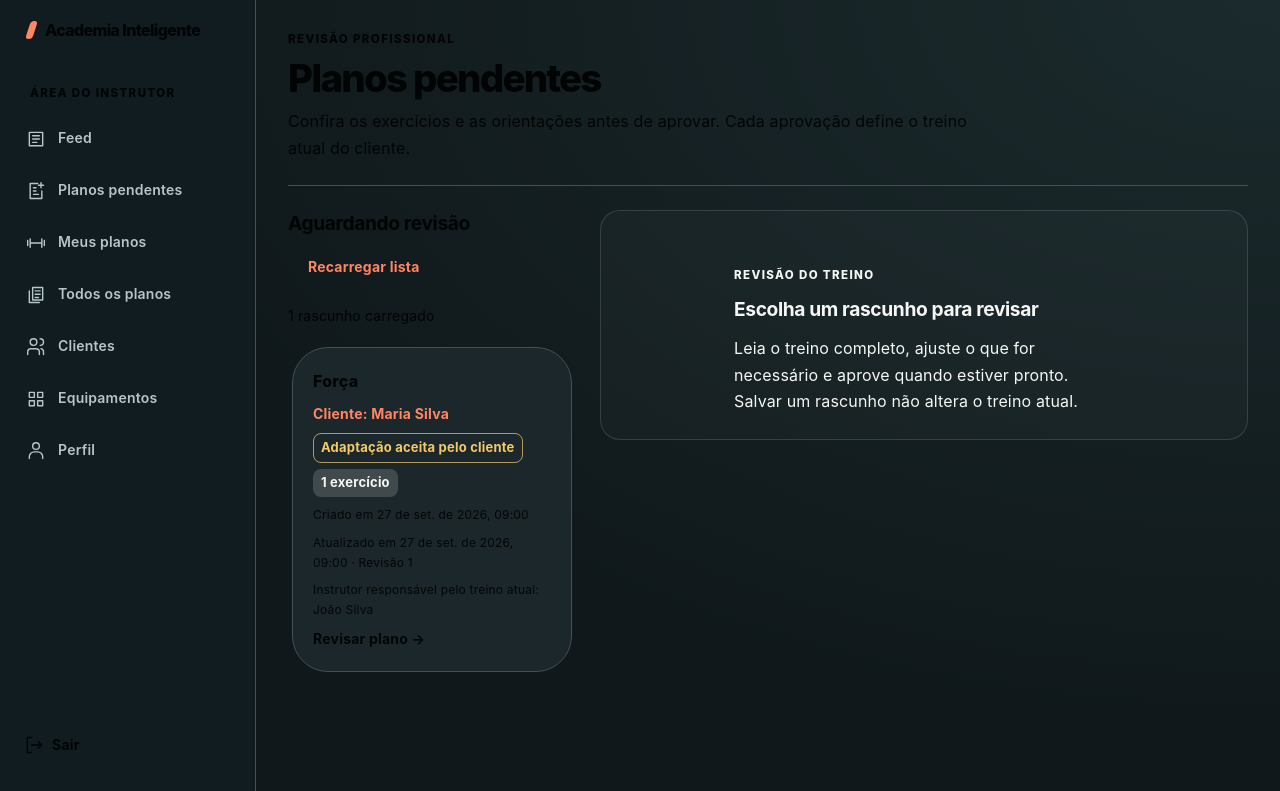
it: stale save blocks approval until the draft has been reloaded
Click the button with aria-label "Revisar plano de Maria Silva".
click(432, 510)  # box [292,348,572,672]
(page scrolled)
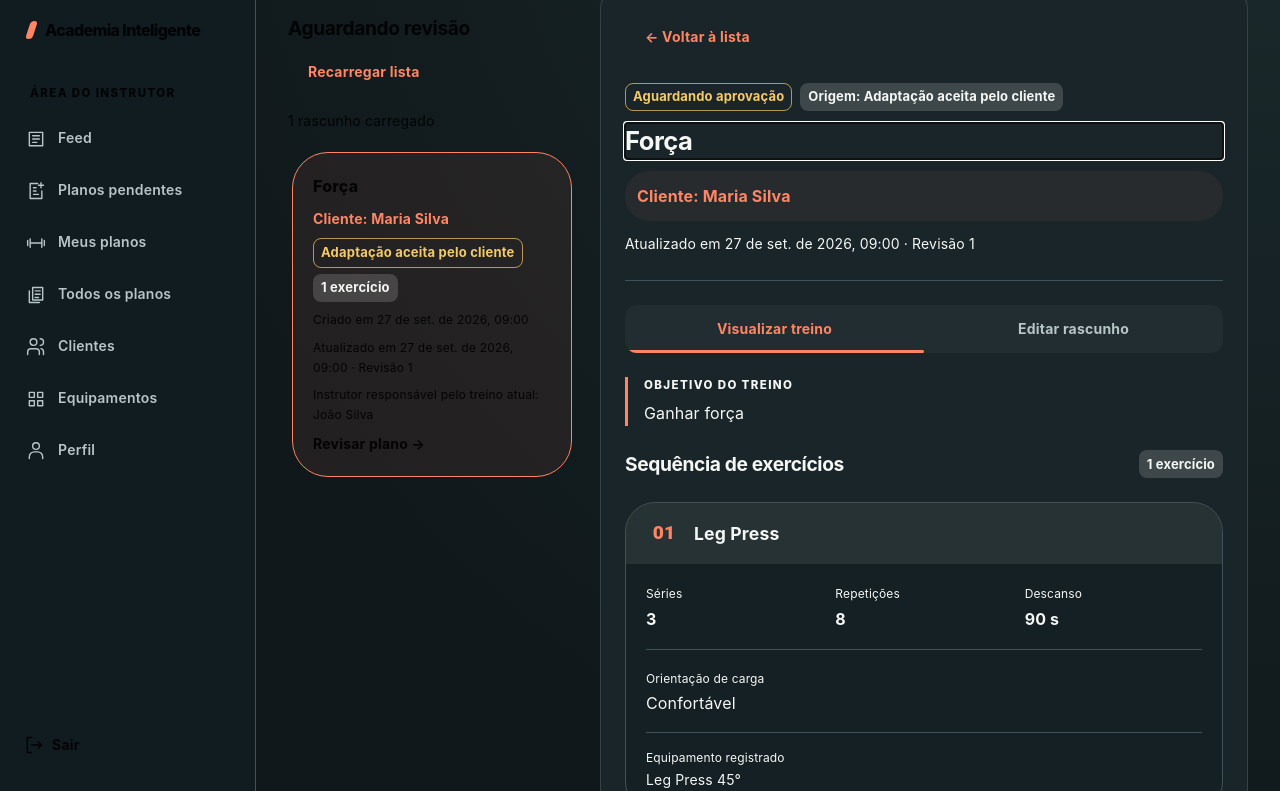
Expected: the heading "Força" is shown, [625,125,692,156]
Click the tab "Editar rascunho".
click(1074, 329)  # box [924,305,1223,353]
(page scrolled)
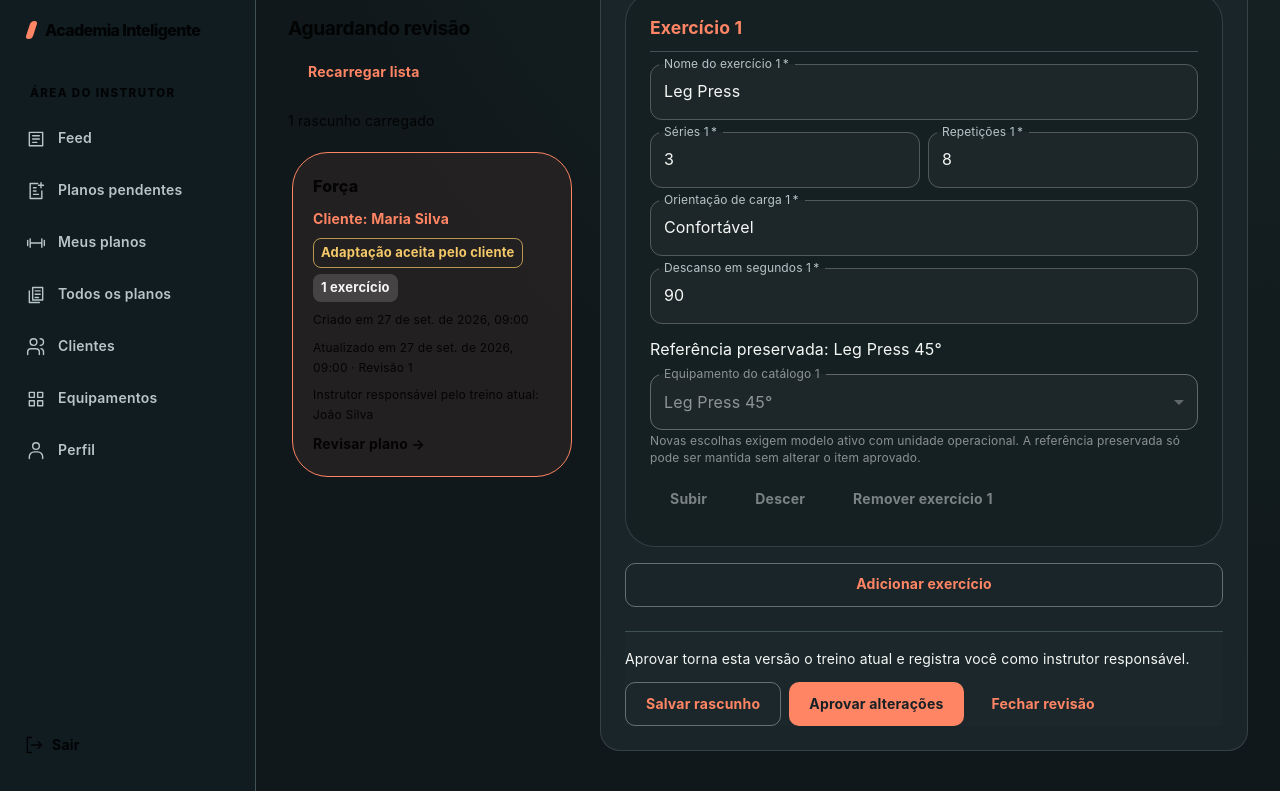
Click the button "Aprovar alterações".
click(876, 704)  # box [789,682,964,726]
(page scrolled)
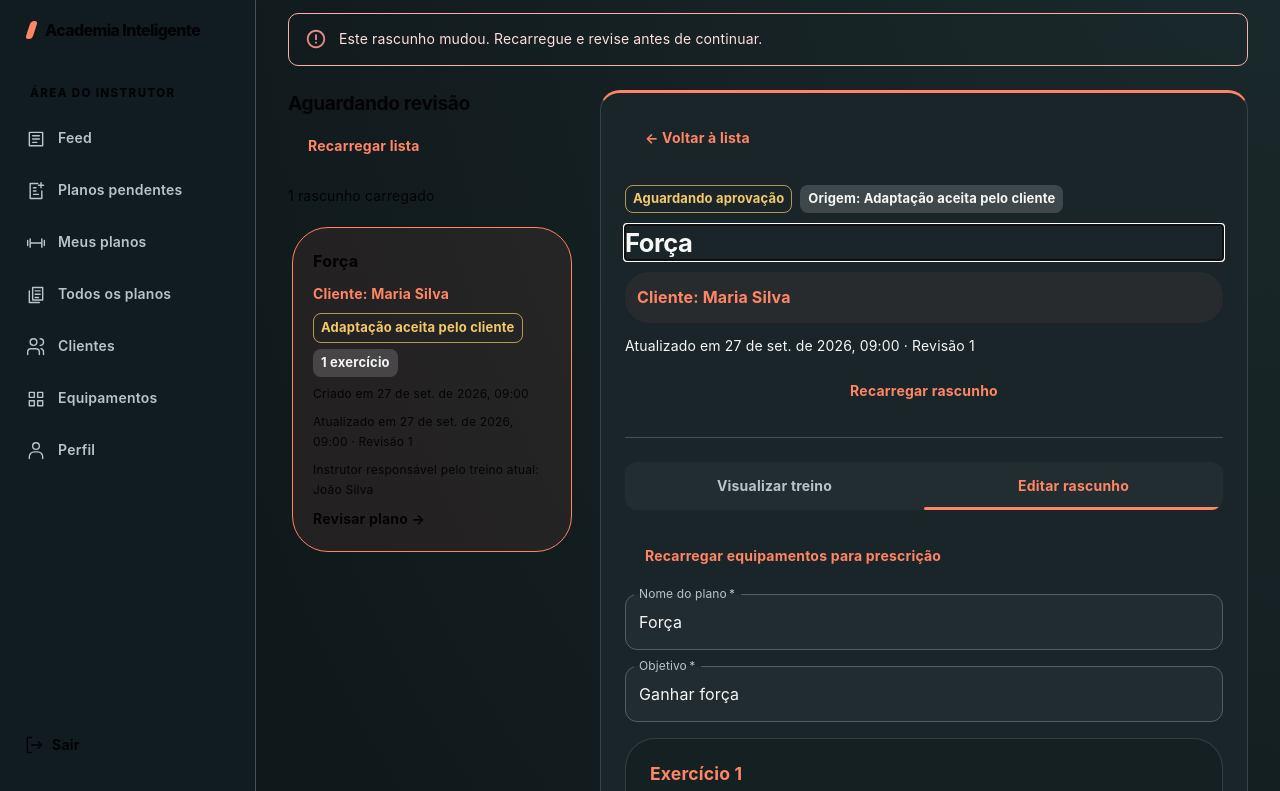
Expected: the text "Este rascunho mudou. Recarregue e revise antes de continuar." is shown, [339,30,762,47]
Click the button "Recarregar rascunho".
click(924, 391)  # box [625,369,1223,413]
(page scrolled)
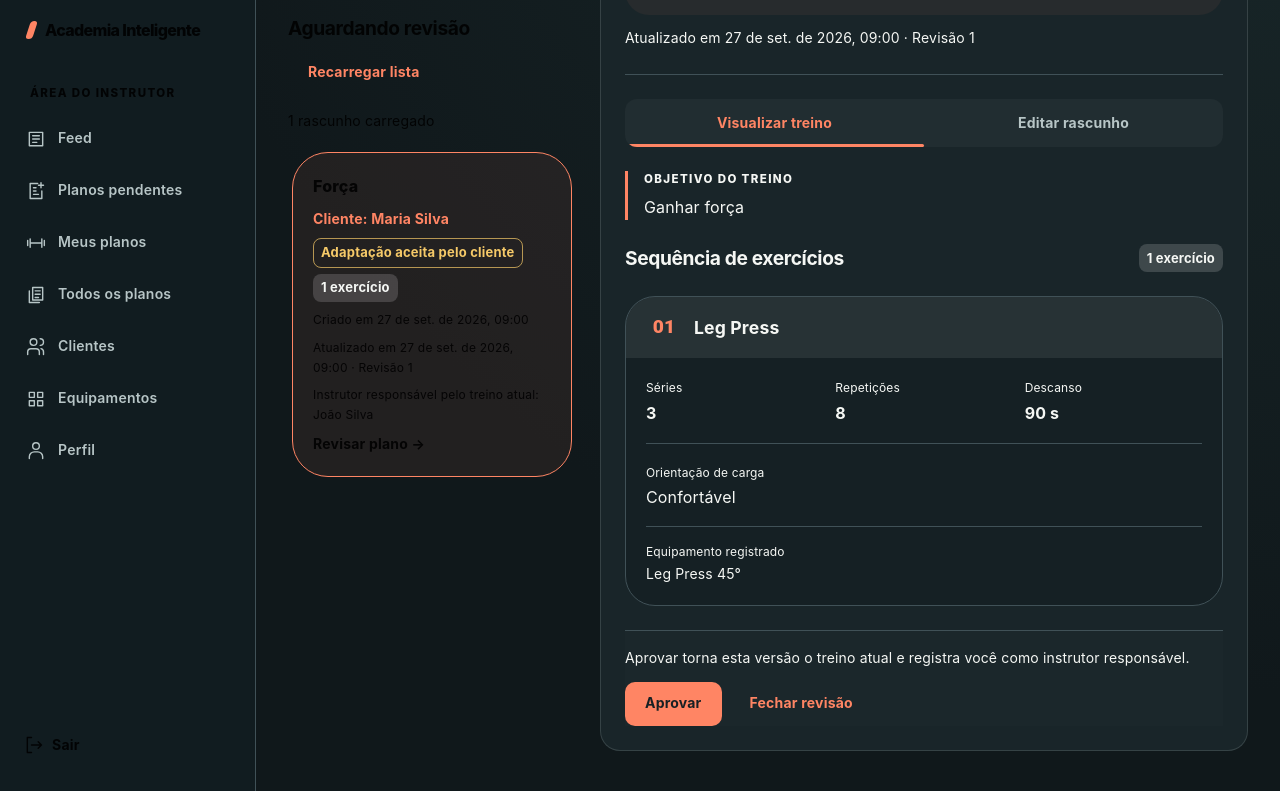
Expected: the button "Aprovar" is enabled, [625,682,722,726]
